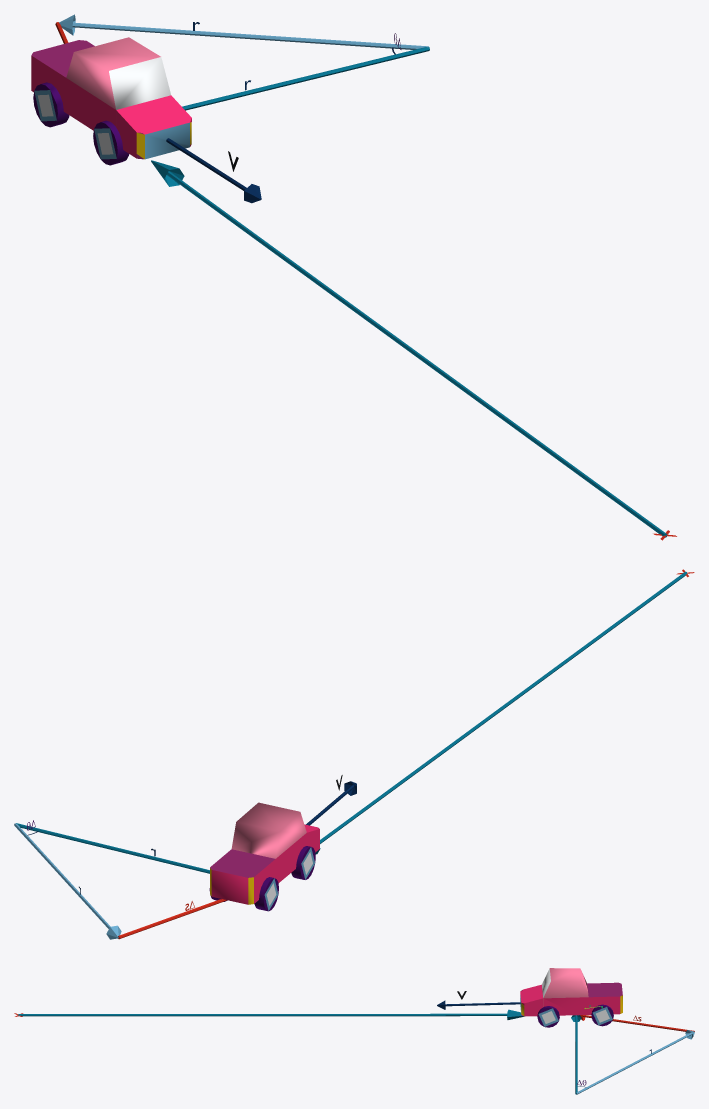
File: movingCar.glb
The picture shows the model from 3 angles, top to bottom: view 1: azimuth 30°, elevation 25°; view 2: azimuth 150°, elevation 25°; view 3: azimuth 270°, elevation 25°; orthographic projection. The views are drawn at different scales.
Visible parts, largest first — view 1: car, vectorC, vectorA, vectorB, wheeB, wheelF; view 2: car, vectorC, vectorB, vectorA, wheeB, wheelF; view 3: car, vectorC, vectorA, wheelF, wheeB, vectorB, dist, vel.
Part boxes in pixels (bbox=[...]): car: bbox=[31, 37, 191, 159]; vectorC: bbox=[151, 160, 667, 537]; vectorA: bbox=[59, 14, 428, 49]; vectorB: bbox=[182, 46, 429, 110]; wheeB: bbox=[33, 82, 69, 127]; wheelF: bbox=[93, 120, 129, 165]; car: bbox=[210, 802, 319, 904]; vectorC: bbox=[315, 571, 687, 854]; vectorB: bbox=[16, 823, 209, 873]; vectorA: bbox=[14, 823, 121, 939]; wheeB: bbox=[209, 877, 278, 911]; wheelF: bbox=[291, 846, 315, 879]; car: bbox=[520, 968, 622, 1016]; vectorC: bbox=[18, 1009, 524, 1019]; vectorA: bbox=[576, 1030, 694, 1094]; wheelF: bbox=[537, 1006, 559, 1027]; wheeB: bbox=[591, 1004, 613, 1026]; vectorB: bbox=[571, 1015, 581, 1094]; dist: bbox=[580, 1015, 694, 1031]; vel: bbox=[437, 1000, 520, 1009].
Bounding box in the file's own units: 19.14 × 4.65 × 62.38.
1 material, 1 textured.
